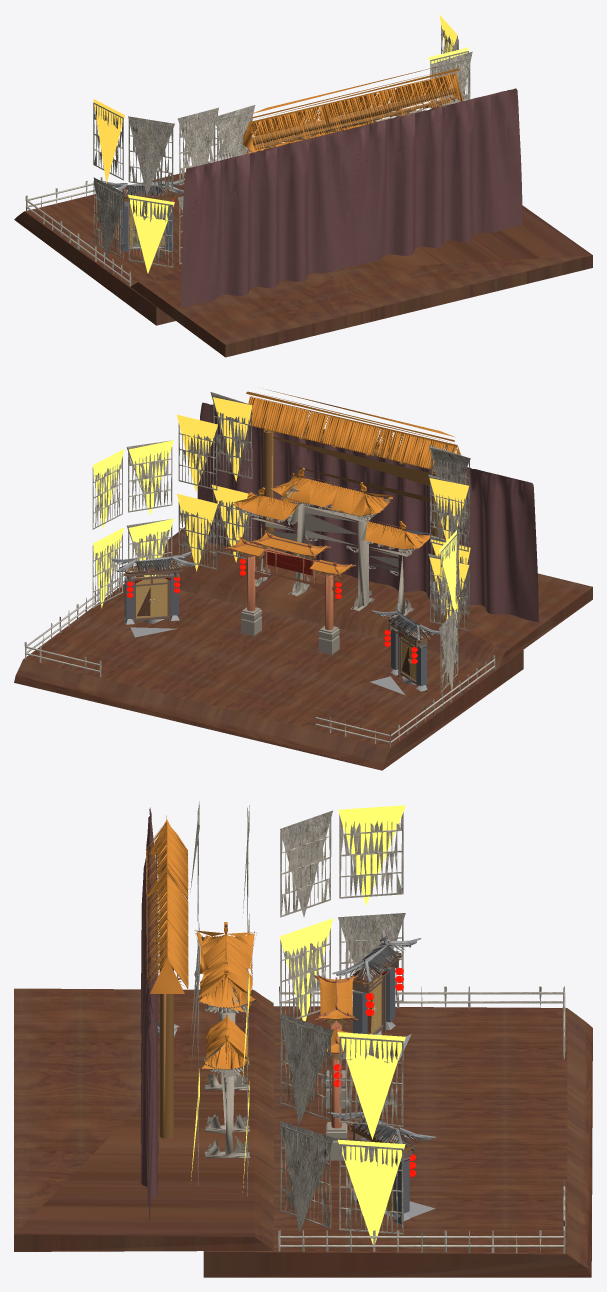
Rendered from yue-opera-stage-mobile.meshopt.glb.
3 renders of one model, top to bottom at view 1: azimuth 30°, elevation 25°; view 2: azimuth 150°, elevation 25°; view 3: azimuth 270°, elevation 25°, orthographic. The views are drawn at different scales.
Visible parts, largest first — view 1: Yueju_Opera_Stage; view 2: Yueju_Opera_Stage; view 3: Yueju_Opera_Stage.
Boxes of the visible parts, box(x1,y1,x2,y2) form: Yueju_Opera_Stage: box(14, 15, 592, 357); Yueju_Opera_Stage: box(14, 389, 592, 770); Yueju_Opera_Stage: box(14, 801, 592, 1277).
Size of the model in its own units: 16.05 by 8.49 by 15.9.
Materials: 33 (20 with a texture image).
